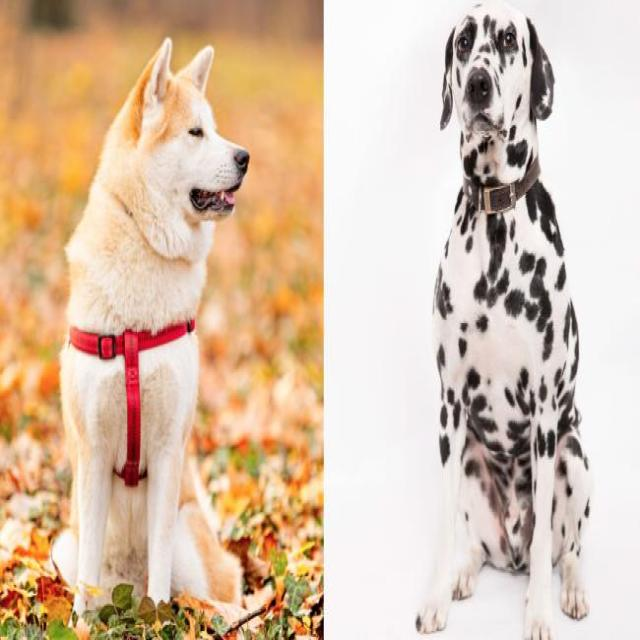Dog: (106, 30, 256, 240), (430, 5, 562, 165)
